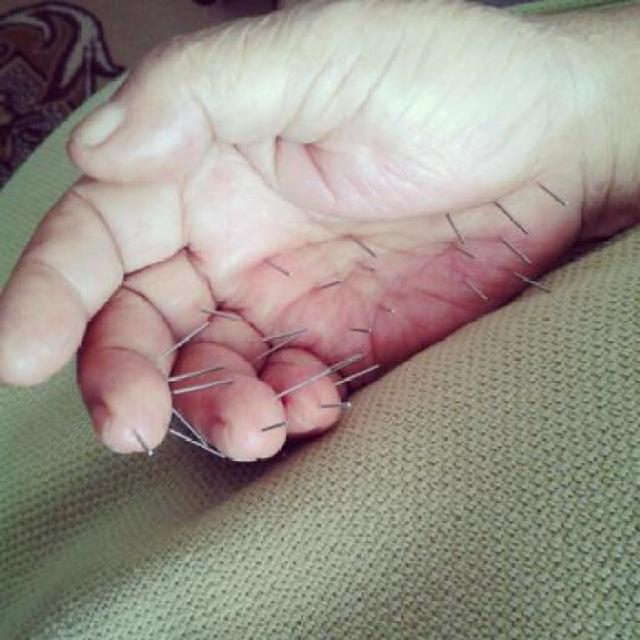Person: (0, 0, 638, 461)
